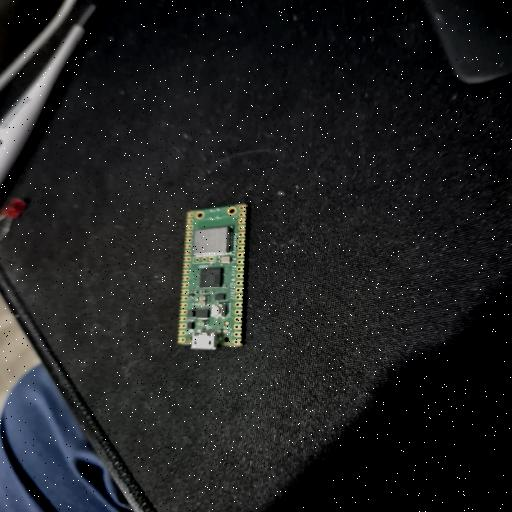raspberry-pi-pico-w: (177, 204, 248, 350)
